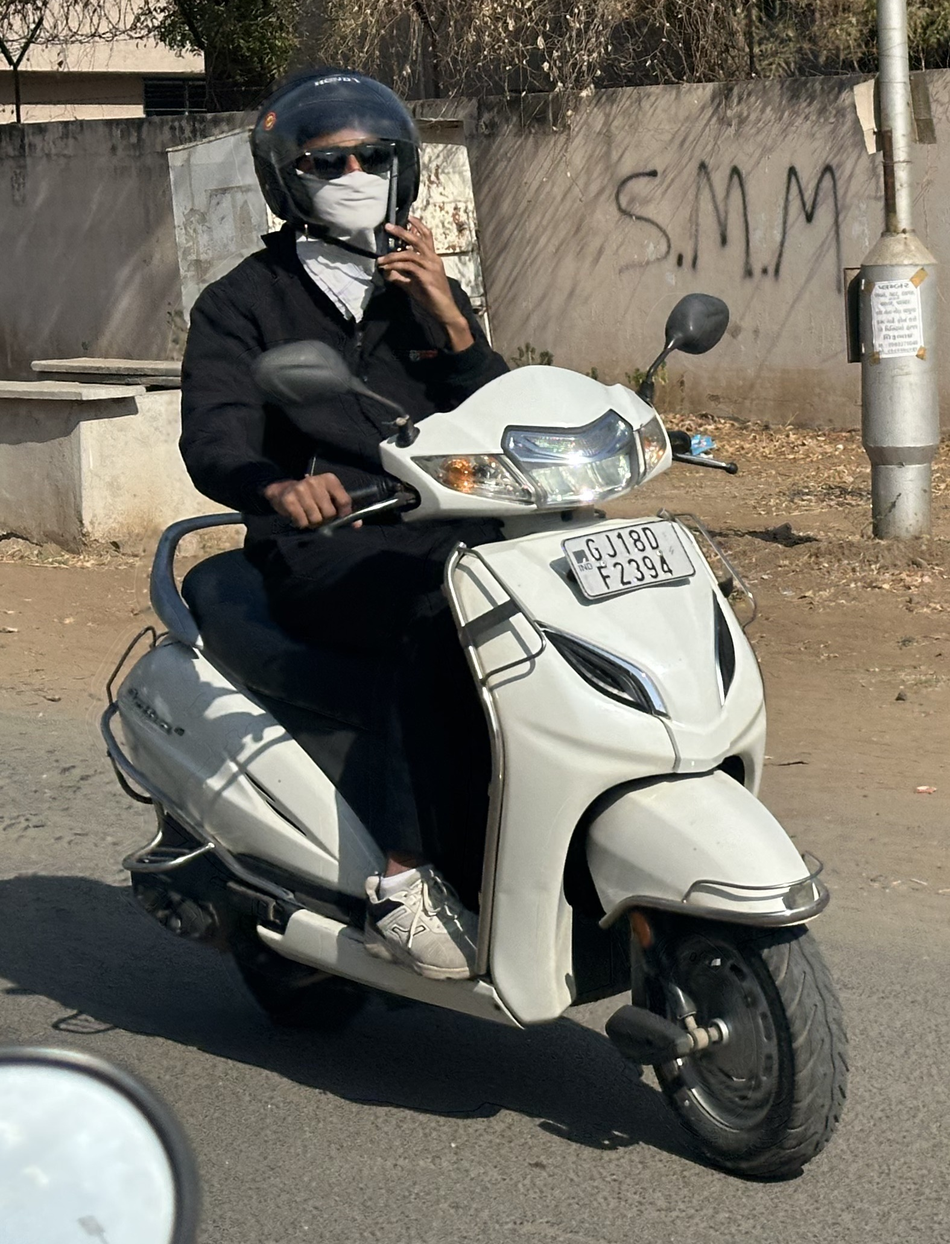BikeWithRider: (84, 54, 870, 1188)
Helmet: (235, 57, 439, 259)
